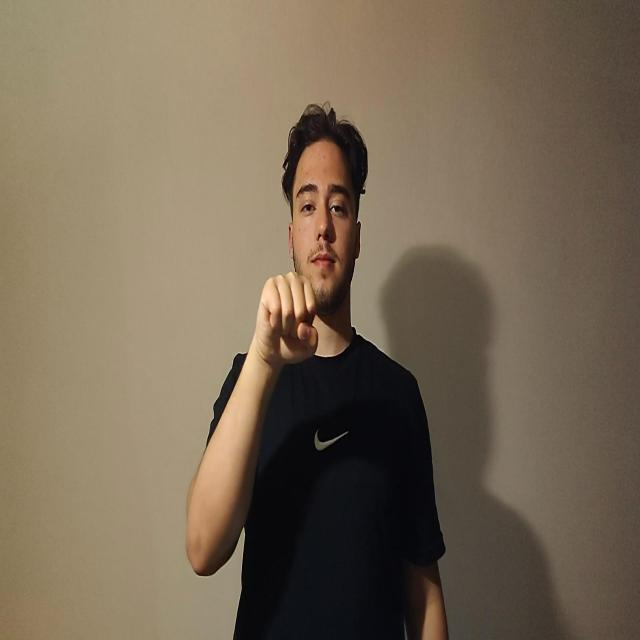yes: (254, 270, 319, 369)
